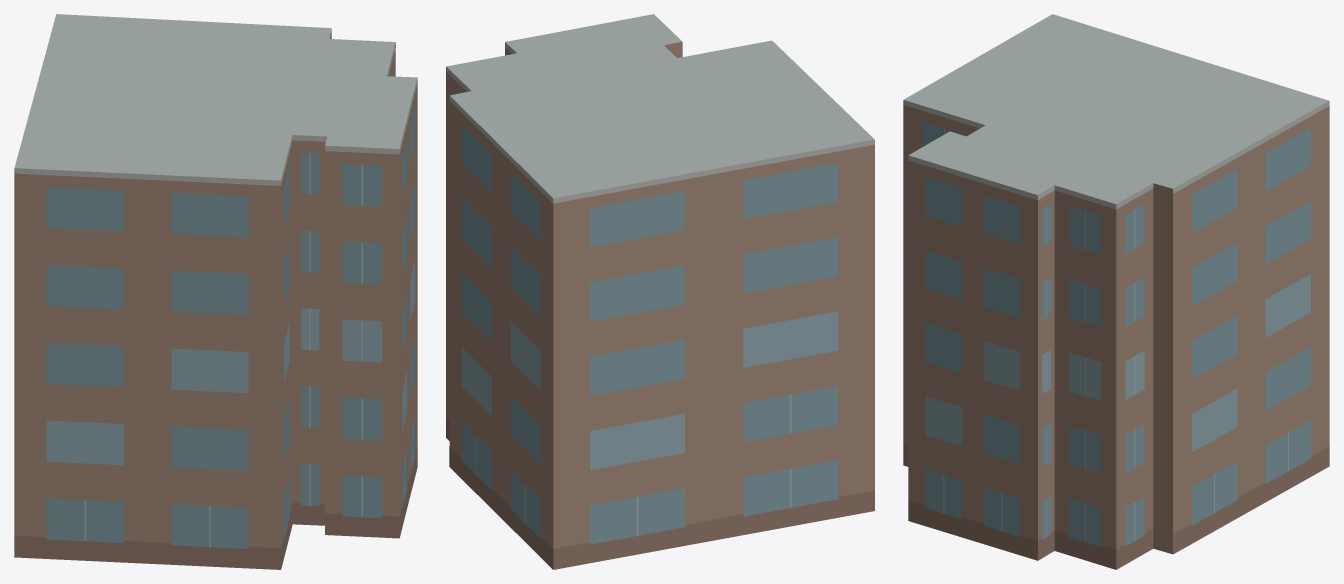
File: survey-upis-32985283.glb
The picture shows the model from 3 angles, left to right: view 1: azimuth 30°, elevation 25°; view 2: azimuth 150°, elevation 25°; view 3: azimuth 270°, elevation 25°; orthographic projection. The views are drawn at different scales.
Visible parts, largest first — view 1: survey-upis-32985283.tmp; view 2: survey-upis-32985283.tmp; view 3: survey-upis-32985283.tmp.
Part boxes in pixels (x1,y1,x2,y2): survey-upis-32985283.tmp: (14, 14, 417, 569); survey-upis-32985283.tmp: (446, 14, 874, 569); survey-upis-32985283.tmp: (903, 14, 1329, 569).
Size of the model in its own units: 19.55 by 17.5 by 18.5.
